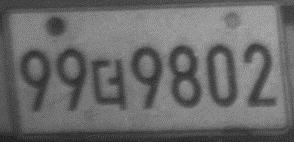0: (203, 42, 240, 108)
2: (242, 41, 278, 109)
8: (166, 43, 203, 107)
9: (52, 46, 89, 112), (129, 44, 165, 110), (18, 47, 52, 113)
더: (89, 56, 127, 110)
